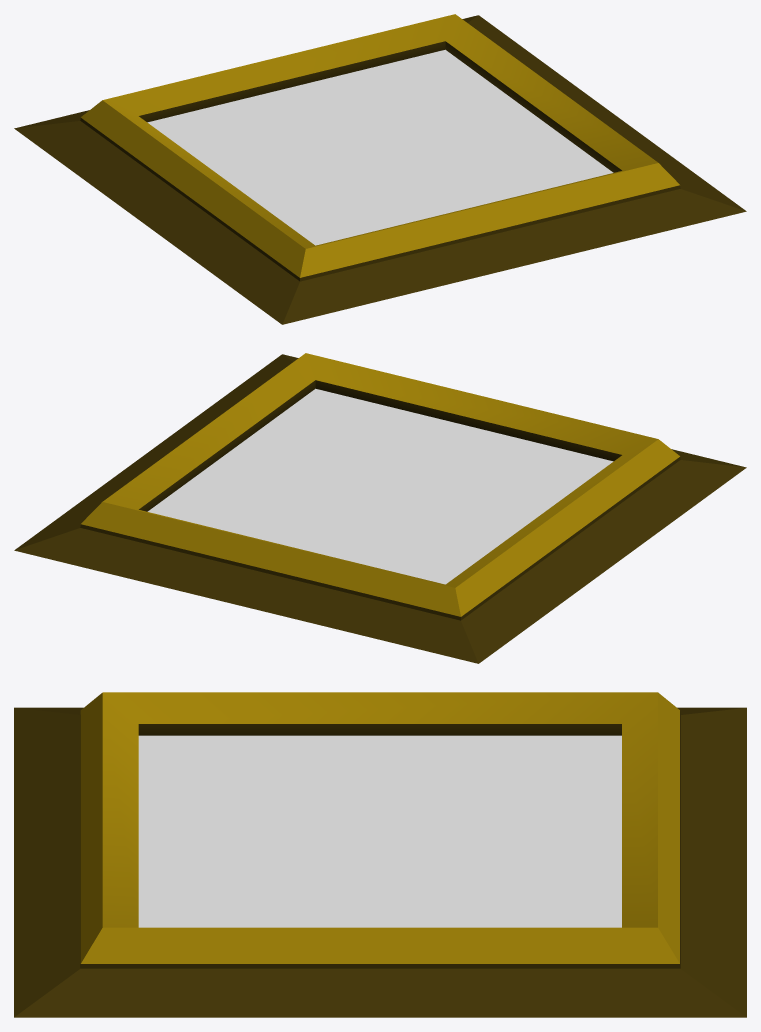
File: schilderijv5.fbx
3 renders of one model, top to bottom at view 1: azimuth 30°, elevation 25°; view 2: azimuth 150°, elevation 25°; view 3: azimuth 270°, elevation 25°, orthographic. The views are drawn at different scales.
Visible parts, largest first — view 1: pPipe5, pPlane2; view 2: pPipe5, pPlane2; view 3: pPipe5, pPlane2.
Part boxes in pixels (x1,y1,x2,y2): pPipe5: (14, 14, 746, 324); pPlane2: (147, 49, 613, 245); pPipe5: (14, 353, 746, 663); pPlane2: (147, 388, 613, 584); pPipe5: (14, 692, 746, 1017); pPlane2: (138, 735, 621, 927).
Size of the model in its own units: 6.82 by 0.5404 by 6.82.
